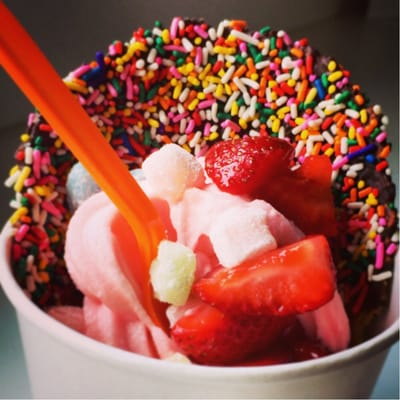sushi: (0, 102, 397, 395)
